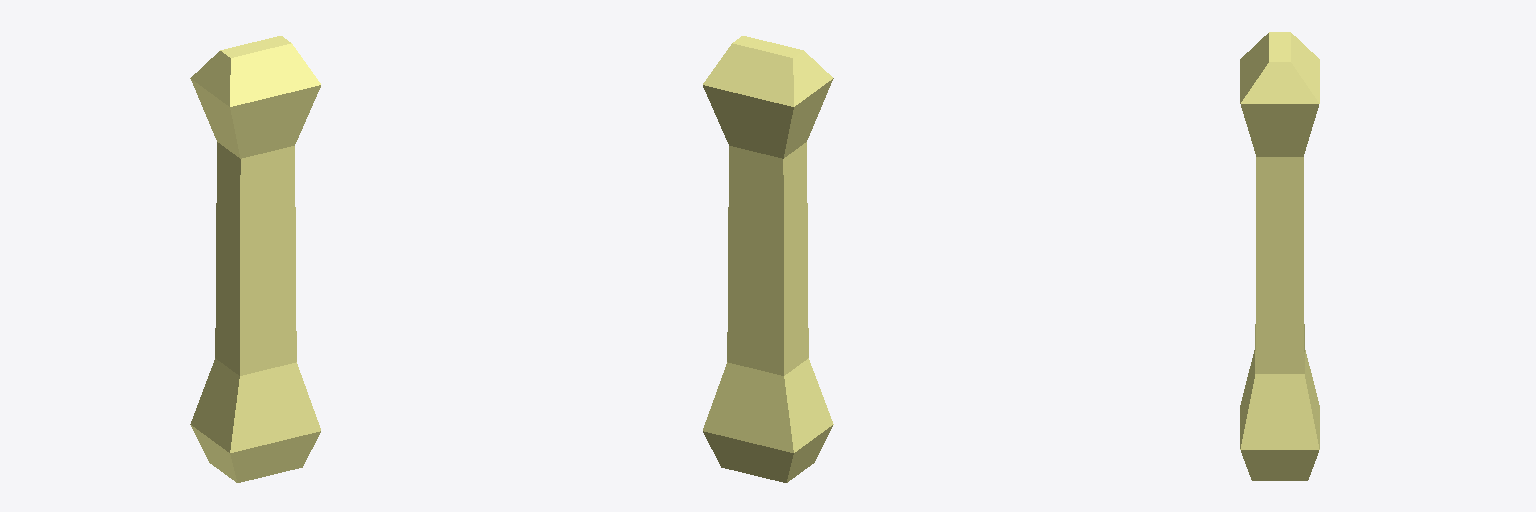
The model's file is BoneHandle.obj.
The picture shows the model from 3 angles: view 1: azimuth 30°, elevation 25°; view 2: azimuth 150°, elevation 25°; view 3: azimuth 270°, elevation 25°; orthographic projection.
Parts seen in each view (by area): view 1: Bone; view 2: Bone; view 3: Bone.
Part boxes in pixels (x1,y1,x2,y2): Bone: (190,36,320,482); Bone: (703,36,833,482); Bone: (1240,32,1319,480).
Bounding box in the file's own units: 0.0279 × 0.1218 × 0.0209.